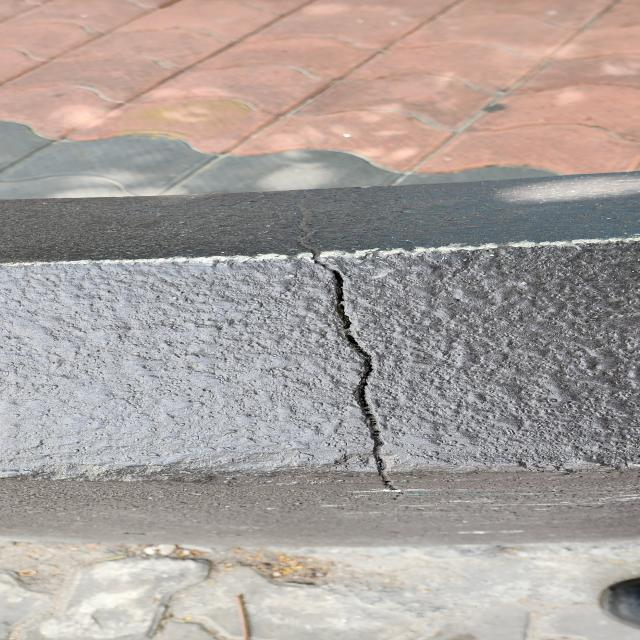SurfaceCrack: (2, 0, 637, 174)
